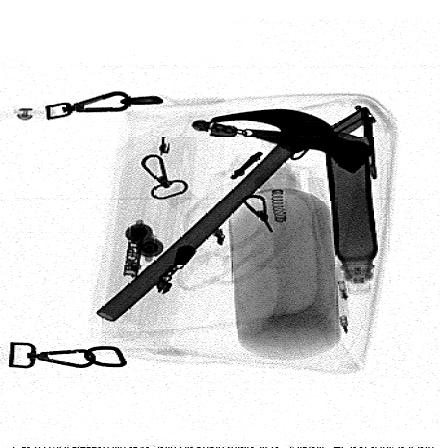Hammer: (97, 109, 372, 322)
